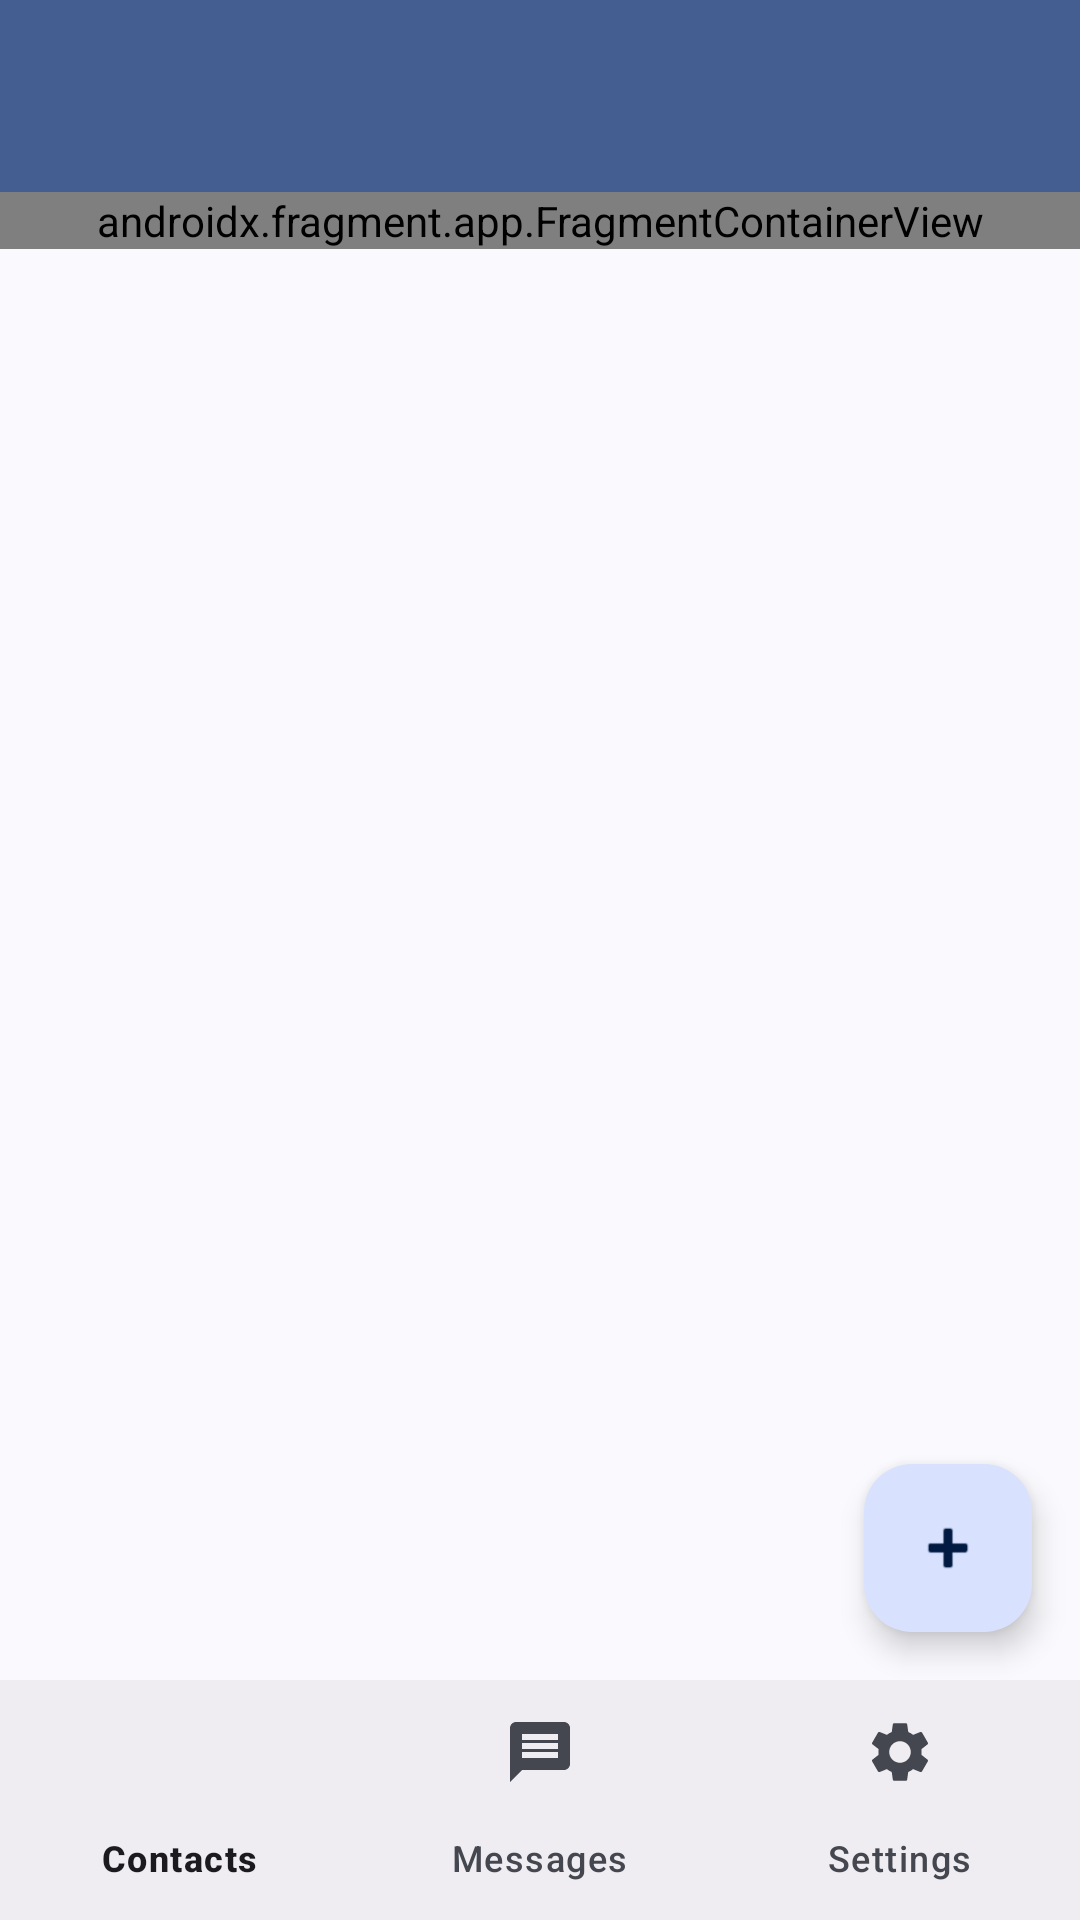

Icon bounding boxes for this 1080w x 1920h phone screenshot, format {"x1": x1, "y1": y1, "x2": x2, "y2": y2}:
Add Contact: {"x1": 864, "y1": 1464, "x2": 1032, "y2": 1632}
